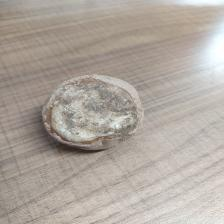Damaged potato: (37, 72, 149, 155)
